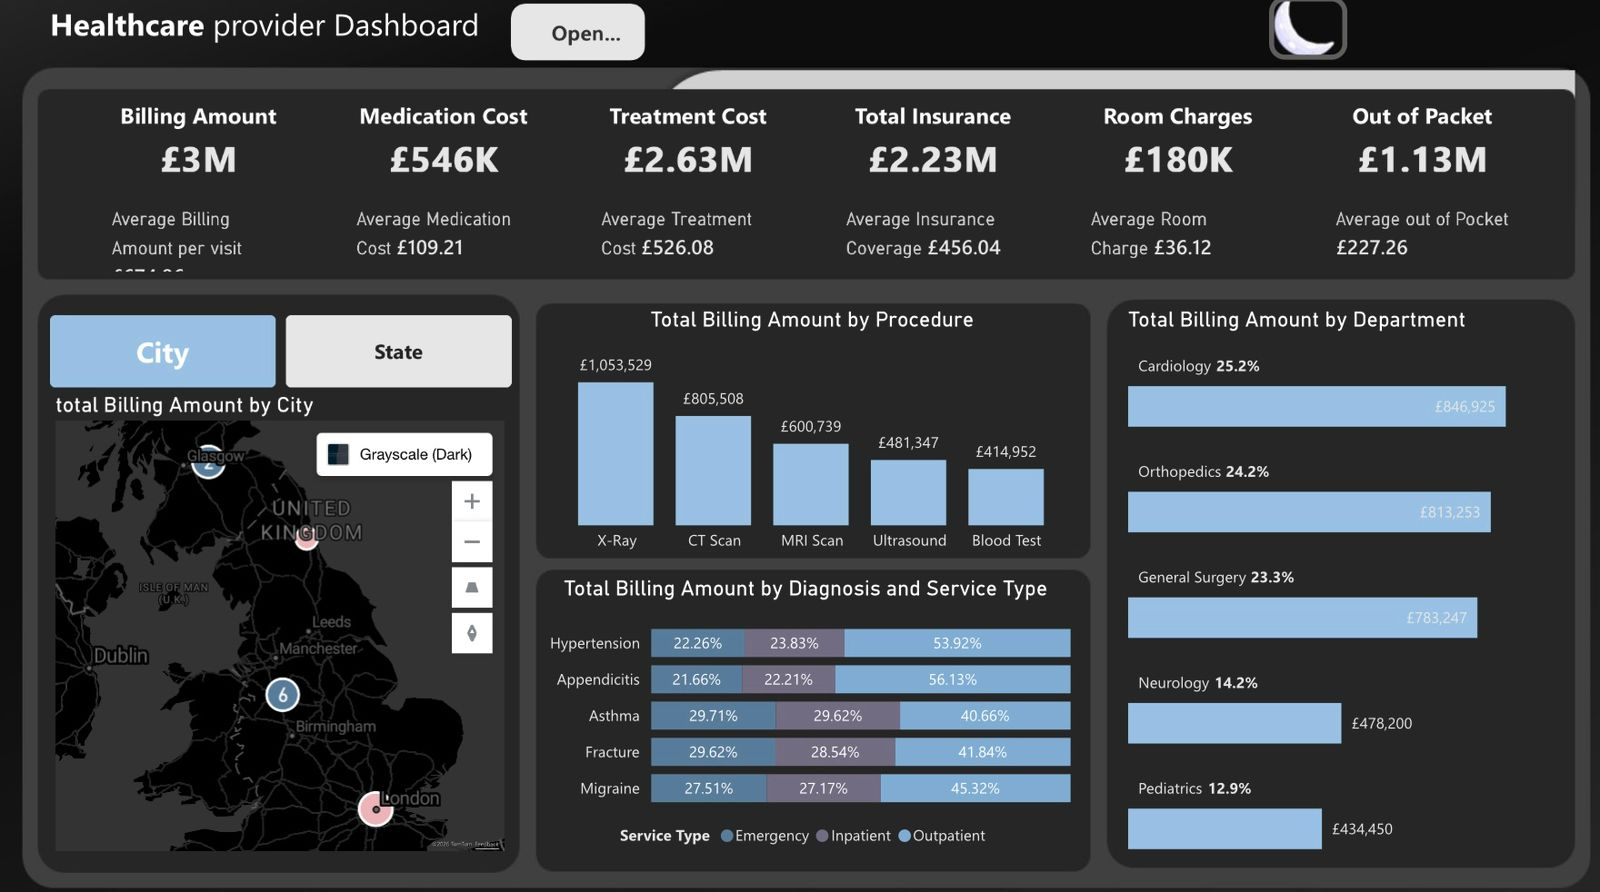

What the dashboard file says about the page in this screenshot:
{"tool":"powerbi","page":{"name":"Dark Mode","canvas":[1280,720],"ordinal":1},"visuals":[{"type":"azureMap","fields":{"Category":["cities.City"],"Size":["Dax Calculation.total Billing Amount"]},"box":[42.6,314.4,364.4,365.9],"z":0},{"type":"actionButton","title":"Open","box":[406.9,5.4,105.8,44.8],"z":1000,"group":"g1"},{"type":"advancedSlicerVisual","fields":{"Values":["Patients Location Swich .Patients Location Swich "]},"box":[38.2,246.9,374.7,67.6],"z":1000},{"type":"clusteredColumnChart","title":"Total Billing Amount by Procedure","fields":{"Category":["procedures.Procedure"],"Y":["Dax Calculation.total Billing Amount"]},"box":[424.7,246.9,440.8,201.3],"z":2000},{"type":"hundredPercentStackedBarChart","title":"Total Billing Amount by Diagnosis and Service Type","fields":{"Y":["Dax Calculation.total Billing Amount"],"Category":["diagnoses.Diagnosis"],"Series":["visits.Service Type"]},"box":[426.1,458.4,427.6,221.9],"z":3000},{"type":"clusteredBarChart","title":"Total Billing Amount by Department","fields":{"Category":["departments.Department"],"Y":["Dax Calculation.Blank Measures","Dax Calculation.total Billing Amount"]},"box":[889,246.9,335,433.5],"z":4000},{"type":"textbox","box":[38.2,0,407,50],"z":5000},{"type":"actionButton","box":[1005.1,0,61.7,50],"z":6000},{"type":"cardVisual","fields":{"Data":["Dax Calculation.total Billing Amount","Dax Calculation.Total Medication cost","Dax Calculation.Total Treatment Cost","Dax Calculation.Total Insurance Coverge","Dax Calculation.Total Room Charges","Dax Calculation.Out of Packet"]},"box":[30.9,52.9,1228.4,194],"z":7000},{"type":"group","id":"g1","title":"Slicers Buttons","box":[406.9,5.4,105.8,44.8],"z":9000}]}

Visuals, with their boxes in screenshot pixels (x1, y1, x2, y2), scaled from the page's 1280x720 canvas onto the 1600x892 screenshot:
azureMap - cities.City x Dax Calculation.total Billing Amount: bbox(53, 390, 509, 843)
"Open" actionButton: bbox(509, 7, 641, 62)
advancedSlicerVisual - Patients Location Swich .Patients Location Swich : bbox(48, 306, 516, 390)
"Total Billing Amount by Procedure" clusteredColumnChart: bbox(531, 306, 1082, 555)
"Total Billing Amount by Diagnosis and Service Type" hundredPercentStackedBarChart: bbox(533, 568, 1067, 843)
"Total Billing Amount by Department" clusteredBarChart: bbox(1111, 306, 1530, 843)
textbox: bbox(48, 0, 556, 62)
actionButton: bbox(1256, 0, 1334, 62)
cardVisual - Dax Calculation.total Billing Amount x Dax Calculation.Total Medication cost: bbox(39, 66, 1574, 306)
"Slicers Buttons" group: bbox(509, 7, 641, 62)
